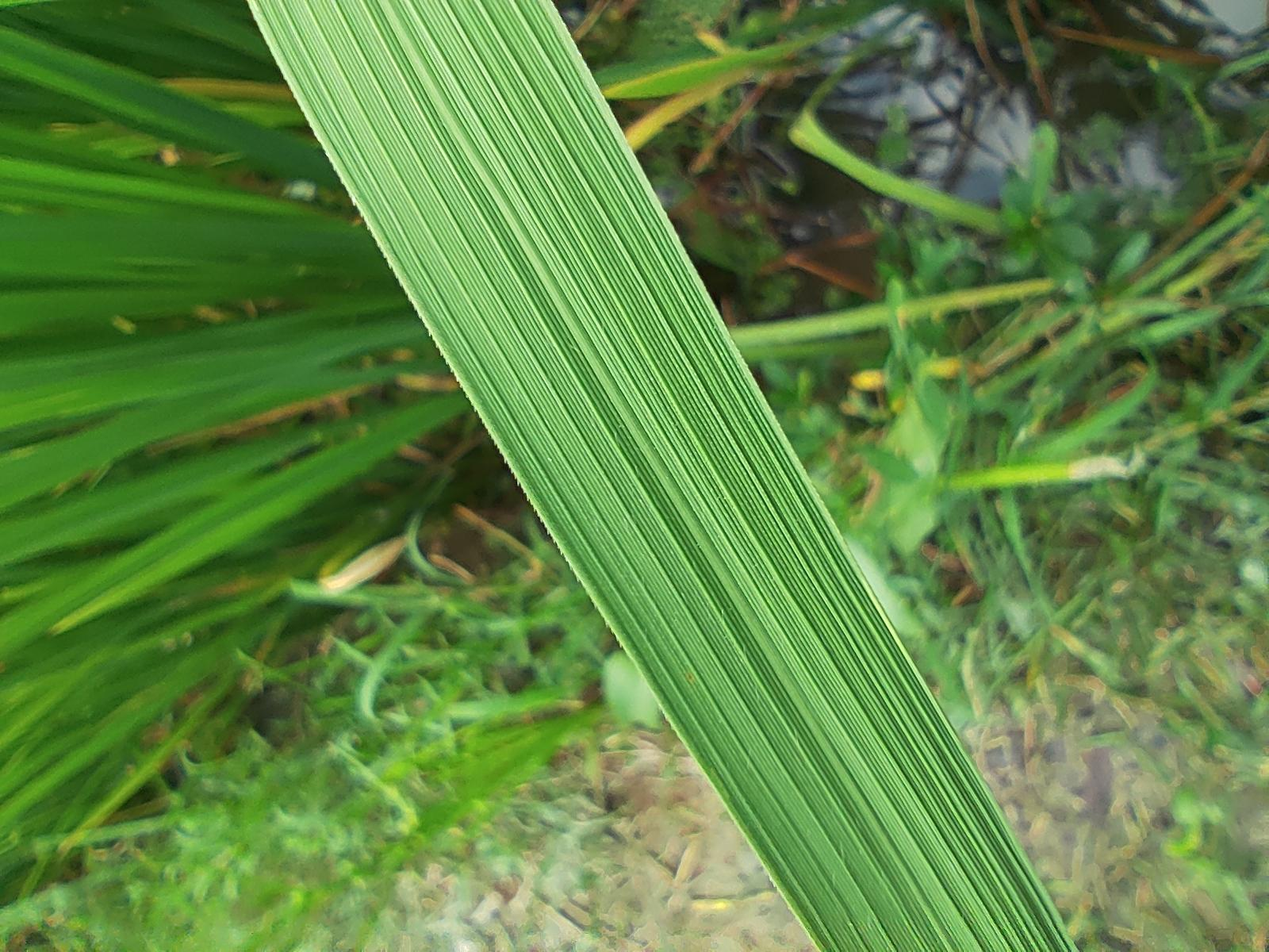Healthy: (0, 188, 1268, 805)
